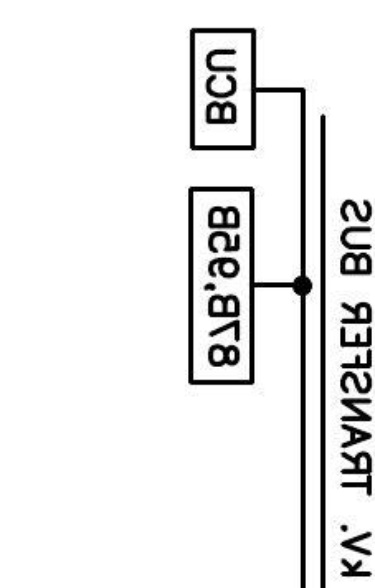BCU: (189, 26, 257, 152)
